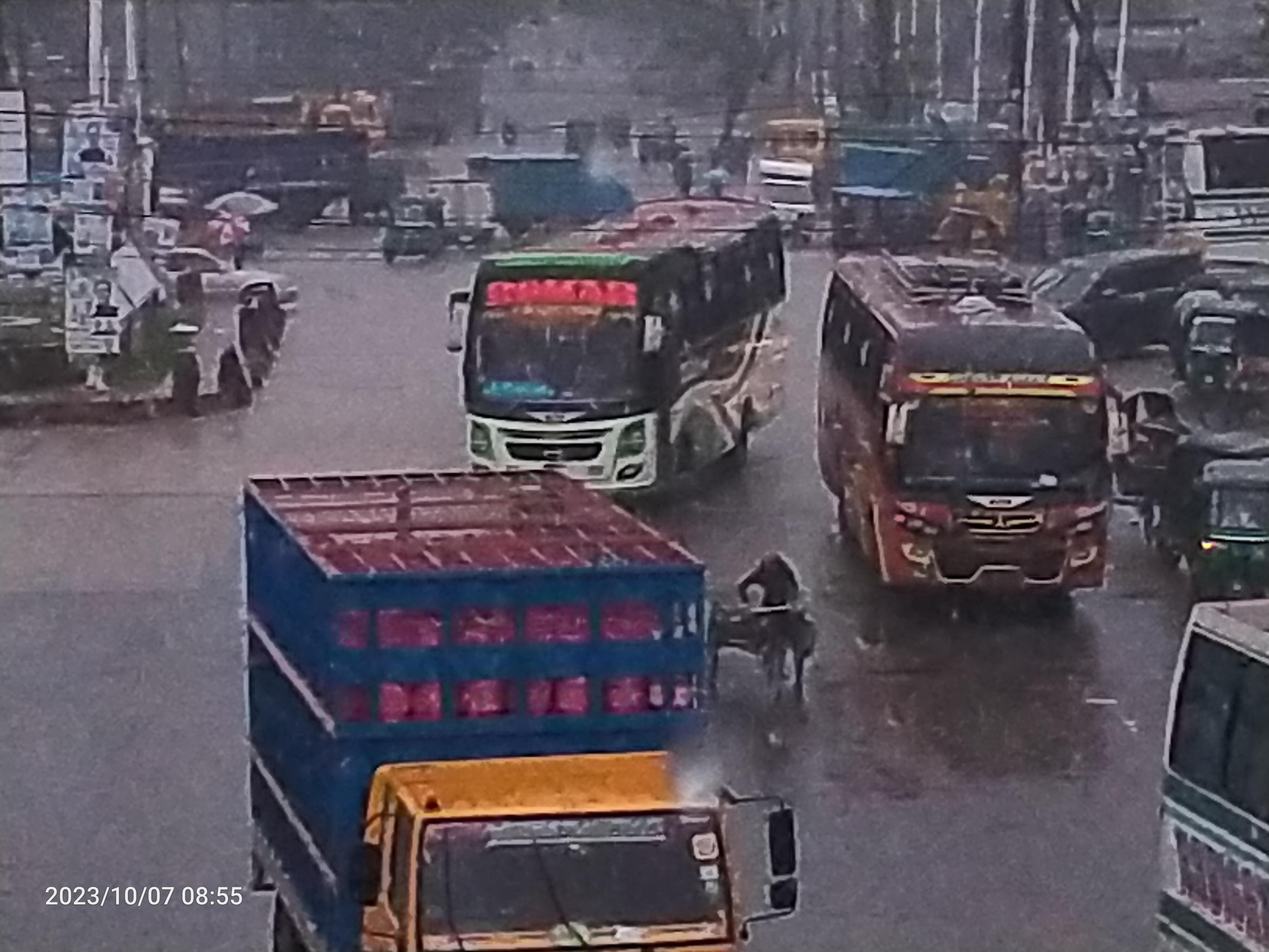Bus: (786, 223, 1132, 640), (438, 190, 804, 530), (1130, 581, 1269, 952), (1151, 98, 1269, 266)
Car: (1029, 240, 1213, 359), (441, 134, 653, 234)
Truck: (180, 446, 835, 952), (94, 122, 376, 216)
